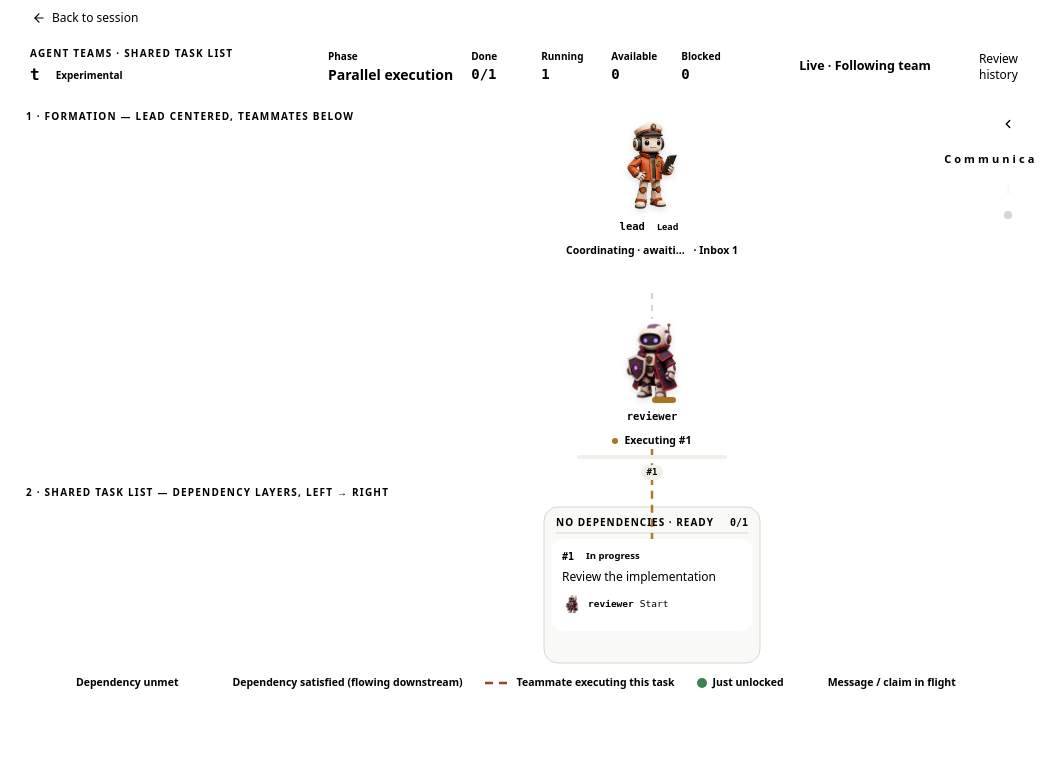
Scenario: AgentTeamsWorkbenchTab › opens the 400px communication feed from a collapsed 56px rail
Click the button with test id "agent-teams-communication-rail" at point(1008, 164), box [980,97,1036,230]
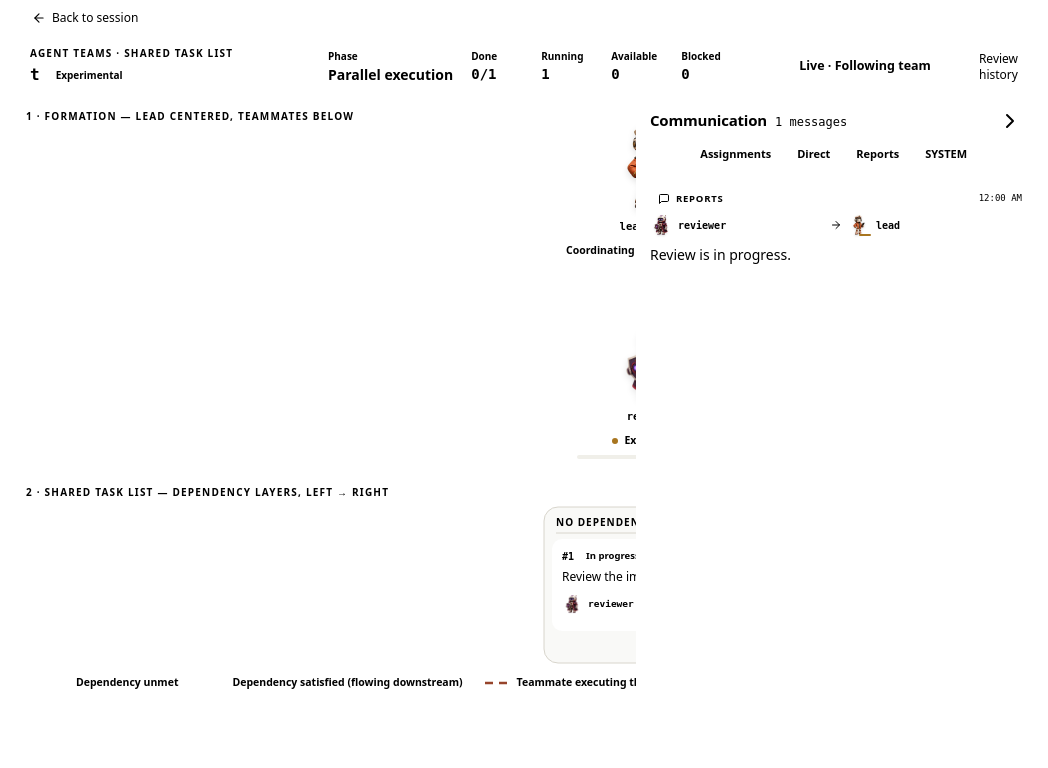
Expected: the button "Back to session" is shown, [24,6,146,30]
Now the button with test id "agent-teams-communication-rail" is gone
Now the text "Review is in progress." is shown, box [650,245,791,264]
